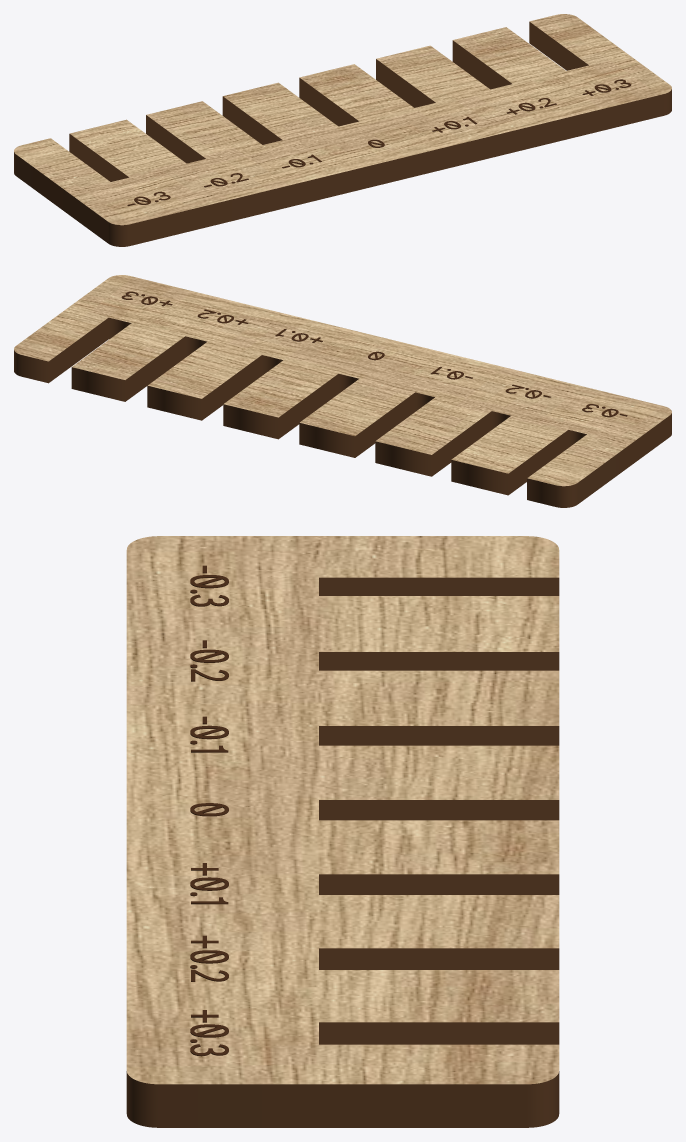
File: kerf-test.glb
3 renders of one model, top to bottom at view 1: azimuth 30°, elevation 25°; view 2: azimuth 150°, elevation 25°; view 3: azimuth 270°, elevation 25°, orthographic. The views are drawn at different scales.
Visible parts, largest first — view 1: body0, engrave0; view 2: body0, engrave0; view 3: body0, engrave0.
Boxes of the visible parts, x1=… form: body0: x1=14, y1=14, x2=671, y2=246; engrave0: x1=127, y1=79, x2=630, y2=205; body0: x1=14, y1=275, x2=671, y2=507; engrave0: x1=121, y1=291, x2=627, y2=417; body0: x1=126, y1=536, x2=559, y2=1127; engrave0: x1=190, y1=565, x2=228, y2=1056.
Bounding box in the file's own units: 0.081 × 0.00306 × 0.027.
3 materials, 1 textured.
